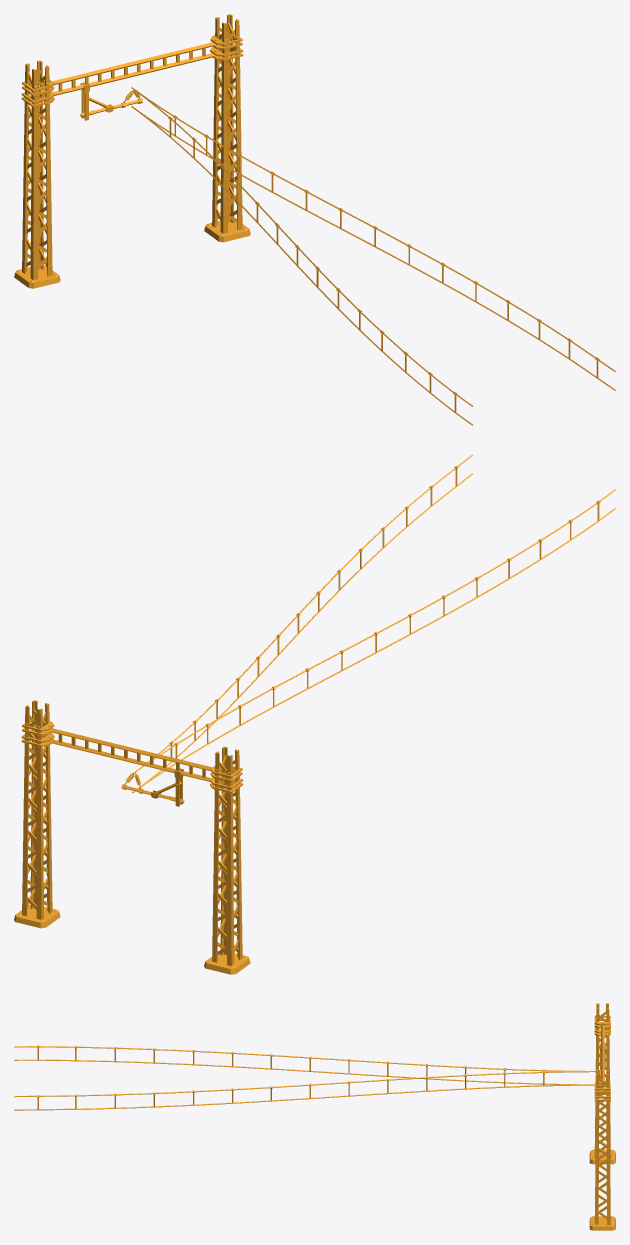
File: SM_Train_Wiring_To_Double.fbx
3 views of the same model, one above another, from view 1: azimuth 30°, elevation 25°; view 2: azimuth 150°, elevation 25°; view 3: azimuth 270°, elevation 25° (orthographic). The views are drawn at different scales.
Visible parts, largest first — view 1: SM_Train_Wiring_To_Double; view 2: SM_Train_Wiring_To_Double; view 3: SM_Train_Wiring_To_Double.
Boxes of the visible parts, box(x1,y1,x2,y2) form: SM_Train_Wiring_To_Double: box(14, 14, 615, 425); SM_Train_Wiring_To_Double: box(14, 454, 615, 974); SM_Train_Wiring_To_Double: box(14, 1003, 615, 1230).
Bounding box in the file's own units: 9.34 × 8.58 × 30.67.
